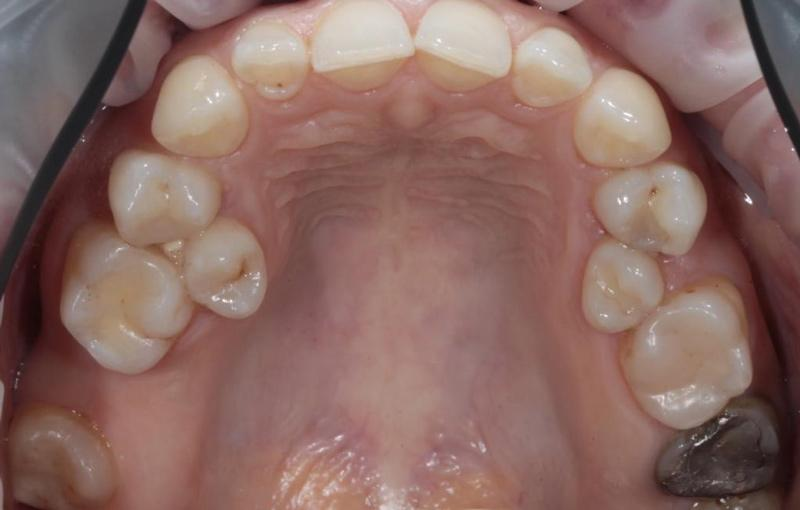UL1BC_decay: (580, 167, 702, 251)
UL1M_decay: (623, 281, 760, 437)
UL2BC_healthy: (583, 257, 666, 338)
UL2M_decay: (655, 413, 769, 502)
ULCI_healthy: (412, 1, 508, 89)
ULC_healthy: (564, 66, 671, 171)
ULLI_healthy: (507, 32, 592, 105)
UR1BC_decay: (106, 147, 211, 241)
UR1M_decay: (62, 239, 193, 371)
URCI_healthy: (314, 5, 415, 87)
URC_healthy: (157, 61, 253, 163)
URLI_healthy: (239, 22, 312, 99)
